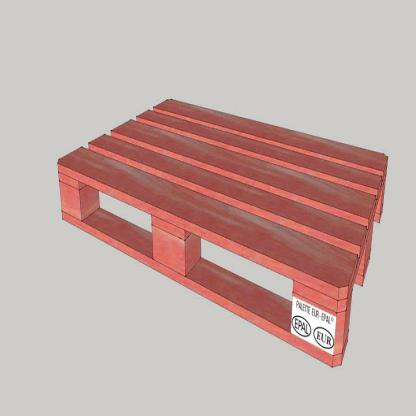BoxFace: (54, 92, 392, 375)
